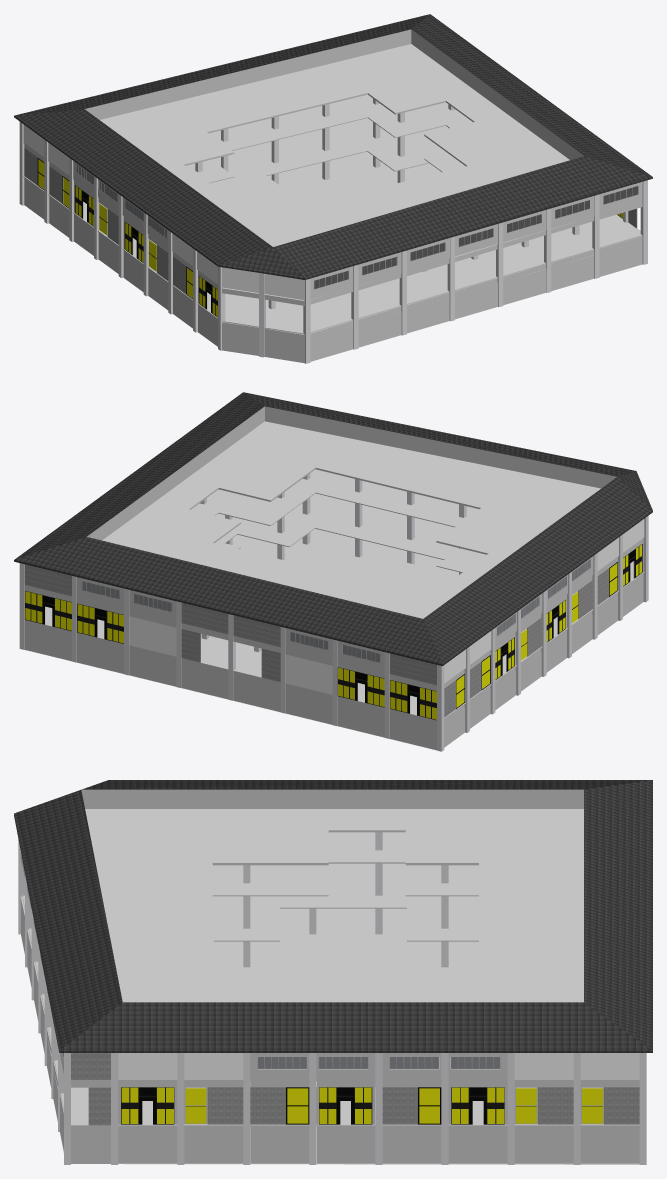
Rendered from central-market.glb.
3 views of the same model, one above another, from view 1: azimuth 30°, elevation 25°; view 2: azimuth 150°, elevation 25°; view 3: azimuth 270°, elevation 25° (orthographic). The views are drawn at different scales.
Visible parts, largest first — view 1: G-Object.1448; view 2: G-Object.1448; view 3: G-Object.1448.
Boxes of the visible parts, x1=… form: G-Object.1448: x1=14, y1=14, x2=652, y2=363; G-Object.1448: x1=14, y1=392, x2=652, y2=751; G-Object.1448: x1=14, y1=780, x2=652, y2=1164.
Bounding box in the file's own units: 53.95 × 12.6 × 53.8.
11 materials, 5 textured.
